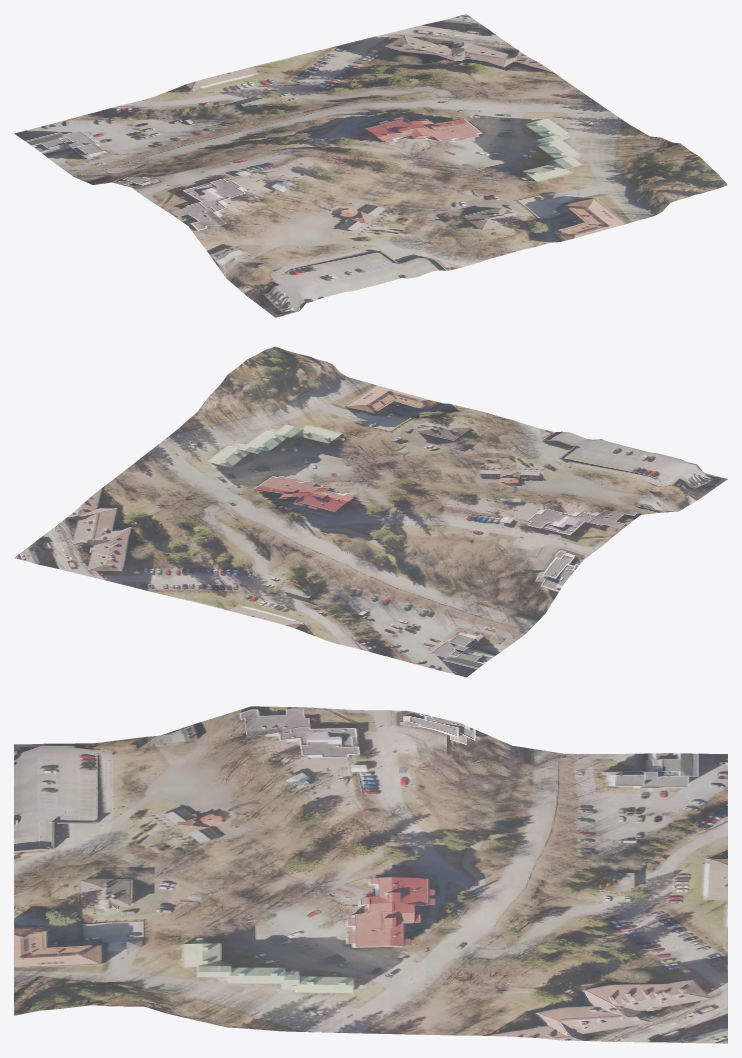
File: CM_Terrain_24488001_6822456.fbx
The picture shows the model from 3 angles, top to bottom: view 1: azimuth 30°, elevation 25°; view 2: azimuth 150°, elevation 25°; view 3: azimuth 270°, elevation 25°; orthographic projection. The views are drawn at different scales.
Parts seen in each view (by area): view 1: CM_Terrain_24488001_6822456_LOD0; view 2: CM_Terrain_24488001_6822456_LOD0; view 3: CM_Terrain_24488001_6822456_LOD0.
Boxes of the visible parts, x1,y1,x2,y2 form: CM_Terrain_24488001_6822456_LOD0: [14, 14, 727, 317]; CM_Terrain_24488001_6822456_LOD0: [14, 346, 727, 677]; CM_Terrain_24488001_6822456_LOD0: [14, 706, 727, 1043].
Size of what is drawn, in the model's own units: 205 by 16.7 by 205.
